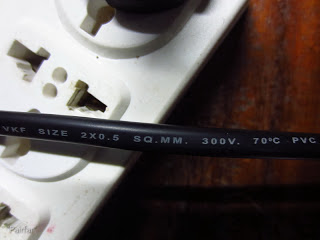Three_eye_plug: (1, 1, 252, 240)
